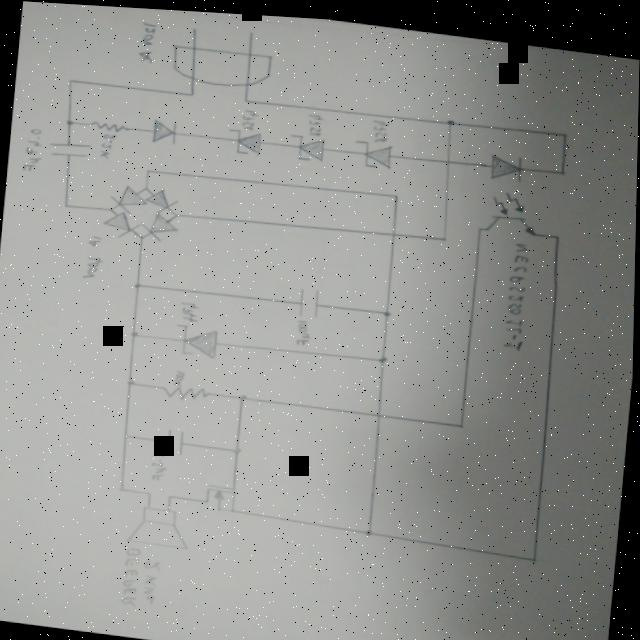capacitor: (294, 281, 326, 316), (46, 137, 91, 161), (161, 424, 193, 454)
crossover: (374, 404, 386, 416), (441, 151, 453, 162), (387, 224, 400, 234)
diode: (173, 320, 221, 357), (351, 133, 393, 165), (108, 181, 147, 213), (286, 129, 326, 160), (139, 209, 178, 240), (225, 125, 263, 153), (102, 208, 140, 236), (144, 185, 177, 212), (149, 116, 180, 143)
junction: (373, 347, 389, 361), (229, 441, 244, 454), (131, 277, 144, 289), (235, 388, 248, 400), (558, 122, 570, 135), (127, 326, 141, 337), (124, 375, 138, 386), (363, 522, 376, 533), (455, 414, 467, 425), (62, 116, 75, 126), (442, 111, 455, 121), (529, 547, 540, 558), (381, 303, 393, 313), (555, 160, 567, 170), (120, 429, 131, 438), (116, 482, 127, 491), (239, 93, 250, 102), (389, 188, 402, 195), (60, 200, 71, 208), (551, 225, 562, 233), (439, 229, 447, 238), (186, 87, 196, 94), (166, 491, 174, 499), (145, 487, 153, 495), (143, 165, 151, 173), (171, 208, 179, 216), (66, 76, 74, 83), (142, 183, 150, 190), (475, 219, 484, 225), (138, 232, 145, 238), (106, 205, 114, 210)
resistor: (160, 379, 212, 400), (89, 118, 126, 131)
terminal: (189, 21, 198, 31), (246, 25, 254, 33)
text: (501, 233, 532, 344), (121, 543, 145, 606), (21, 124, 45, 174), (135, 17, 158, 63), (141, 556, 162, 603), (149, 447, 169, 483), (80, 252, 104, 281), (293, 314, 314, 344), (96, 129, 117, 159), (177, 297, 199, 321), (304, 107, 324, 133), (369, 113, 389, 139), (240, 104, 257, 128), (85, 231, 105, 247), (171, 366, 186, 383)
transistor: (203, 479, 241, 511)
